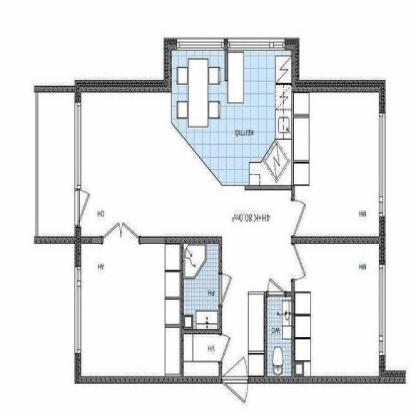door: (221, 357, 250, 401), (101, 221, 138, 247), (290, 199, 308, 235), (74, 188, 91, 224), (292, 244, 307, 284), (219, 271, 231, 305), (266, 277, 285, 296), (220, 332, 232, 362)
window: (379, 113, 386, 220), (74, 101, 82, 190), (229, 38, 284, 50), (379, 264, 386, 355), (178, 38, 224, 50), (74, 267, 80, 353)
zone: (81, 90, 380, 236), (184, 242, 380, 376), (171, 50, 294, 188), (81, 243, 180, 375), (38, 91, 74, 236), (183, 242, 220, 328)
